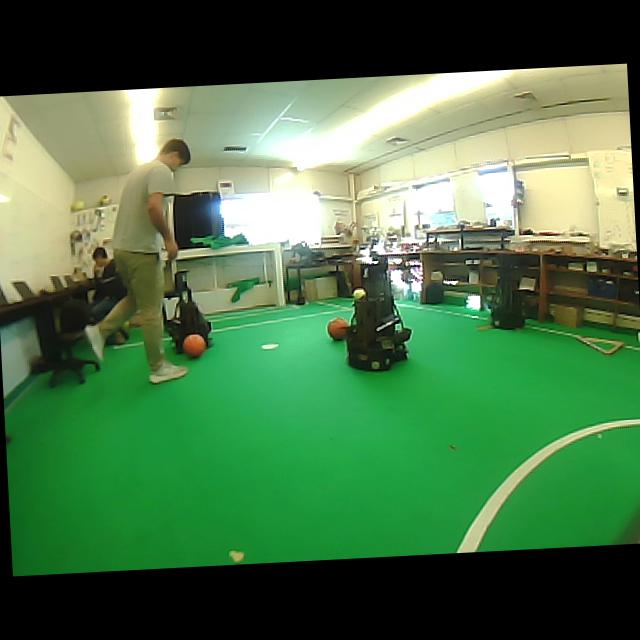ball: (182, 333, 206, 358), (327, 317, 347, 340), (352, 288, 366, 301), (71, 200, 86, 212), (99, 195, 112, 205)
goal: (274, 243, 285, 305)
robot: (346, 262, 412, 370), (166, 271, 212, 353), (491, 255, 525, 329)
